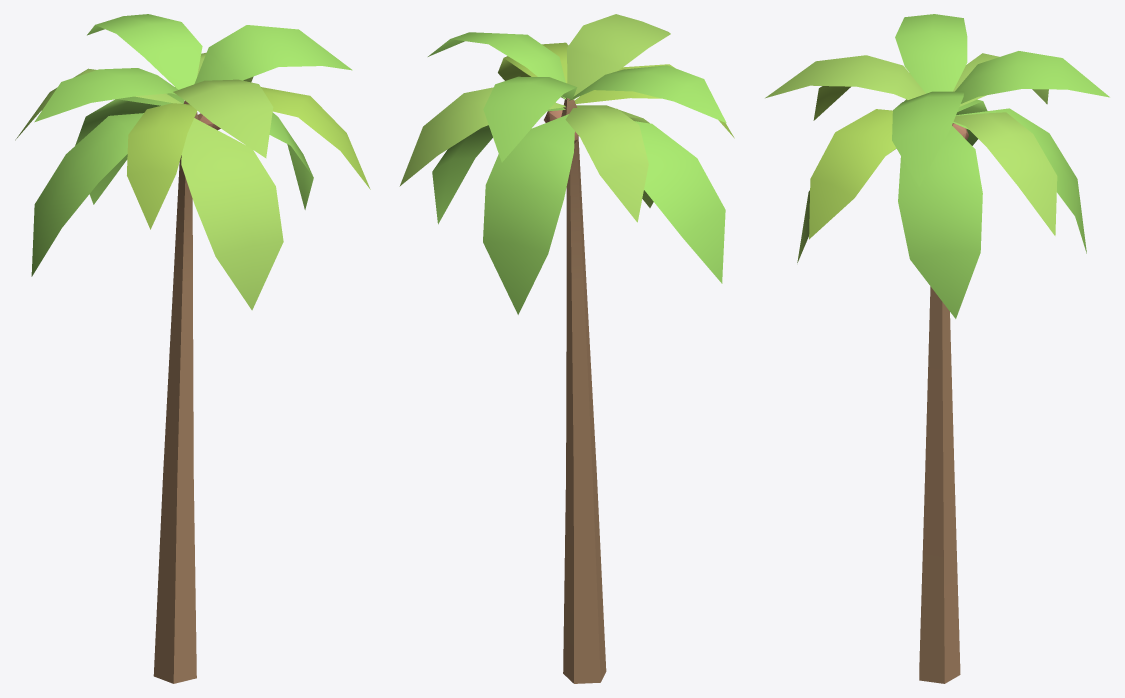
The model's file is palm-tree-coconut-l-01.glb.
3 views of the same model, side by side, from view 1: azimuth 30°, elevation 25°; view 2: azimuth 150°, elevation 25°; view 3: azimuth 270°, elevation 25° (orthographic).
Parts seen in each view (by area): view 1: Palm_Tree_Coconut_l_01; view 2: Palm_Tree_Coconut_l_01; view 3: Palm_Tree_Coconut_l_01.
Part boxes in pixels (x1,y1,x2,y2): Palm_Tree_Coconut_l_01: [15, 14, 370, 683]; Palm_Tree_Coconut_l_01: [399, 14, 734, 683]; Palm_Tree_Coconut_l_01: [765, 14, 1109, 683].
Bounding box in the file's own units: 4.3 × 8.23 × 4.17.
1 material, 1 textured.
